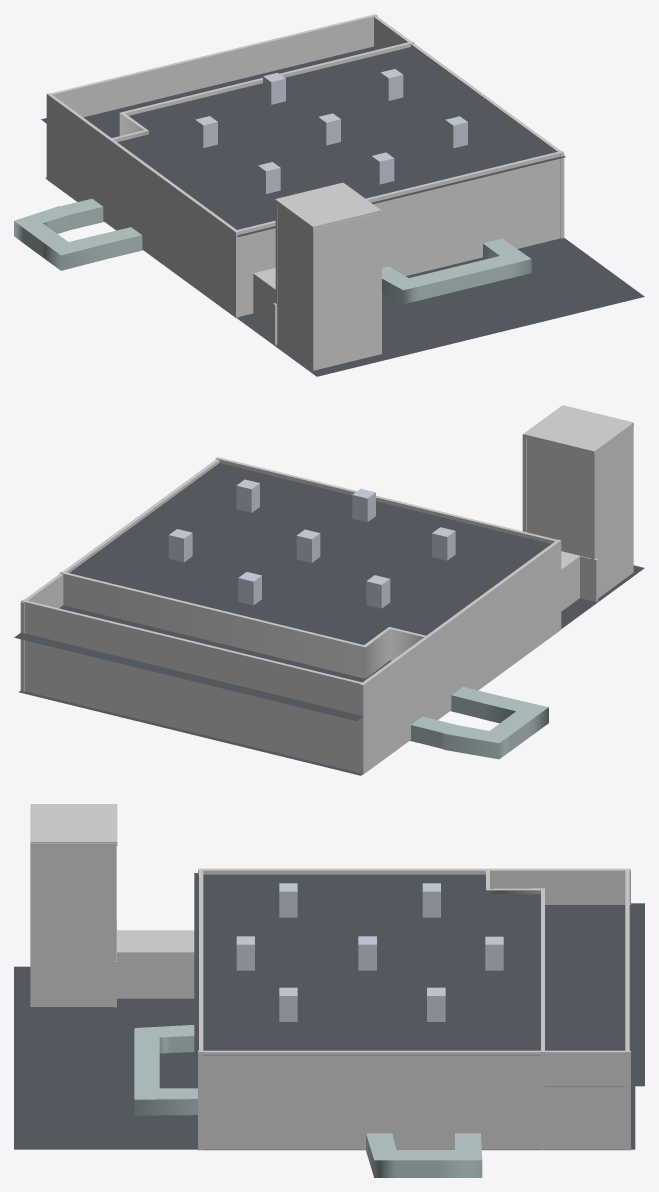
Rendered from level_layout.fbx.
The picture shows the model from 3 angles, top to bottom: view 1: azimuth 30°, elevation 25°; view 2: azimuth 150°, elevation 25°; view 3: azimuth 270°, elevation 25°; orthographic projection. The views are drawn at different scales.
Visible parts, largest first — view 1: pPlane3, pCube2, pCube3, pPlane1, pCube1, pCube13, pCube12, pCube30, pCube28, pCube14, pCube5, pCube4 (+11 smaller); view 2: pPlane3, pCube1, pCube3, pCube5, pCube15, pCube12, pPlane4, pCube28, pCube14, pCube4, pCube2, pPlane1 (+11 smaller); view 3: pPlane3, pCube4, pPlane1, pPlane4, pCube11, pCube3, pCube30, pCube29, pCube7, pCube14, pCube8, pCube5 (+9 smaller).
Part boxes in pixels (x1,y1,x2,y2): pPlane3: [117, 47, 565, 236]; pCube2: [235, 151, 563, 316]; pCube3: [46, 93, 239, 318]; pPlane1: [45, 177, 644, 376]; pCube1: [49, 14, 377, 117]; pCube13: [314, 213, 378, 369]; pCube12: [277, 205, 316, 370]; pCube30: [382, 238, 531, 304]; pCube28: [14, 206, 109, 270]; pCube14: [275, 182, 380, 229]; pCube5: [112, 41, 414, 141]; pCube4: [374, 16, 564, 238]; pPlane3: [69, 463, 562, 644]; pCube1: [21, 599, 364, 772]; pCube3: [360, 539, 561, 774]; pCube5: [59, 571, 425, 678]; pCube15: [526, 438, 596, 559]; pCube12: [591, 426, 633, 597]; pPlane4: [14, 605, 391, 720]; pCube28: [443, 694, 548, 759]; pCube14: [523, 405, 633, 454]; pCube4: [20, 459, 219, 691]; pCube2: [215, 457, 559, 543]; pPlane1: [19, 565, 644, 775]; pPlane3: [194, 873, 540, 1055]; pCube4: [198, 1050, 630, 1150]; pPlane1: [14, 966, 635, 1149]; pPlane4: [545, 903, 644, 1086]; pCube11: [30, 842, 116, 1006]; pCube3: [198, 868, 630, 904]; pCube30: [134, 1025, 197, 1115]; pCube29: [366, 1133, 482, 1177]; pCube7: [117, 952, 194, 998]; pCube14: [30, 804, 117, 845]; pCube8: [116, 930, 194, 952]; pCube5: [485, 870, 544, 1149].
Bounding box in the file's own units: 140 × 42.39 × 146.
